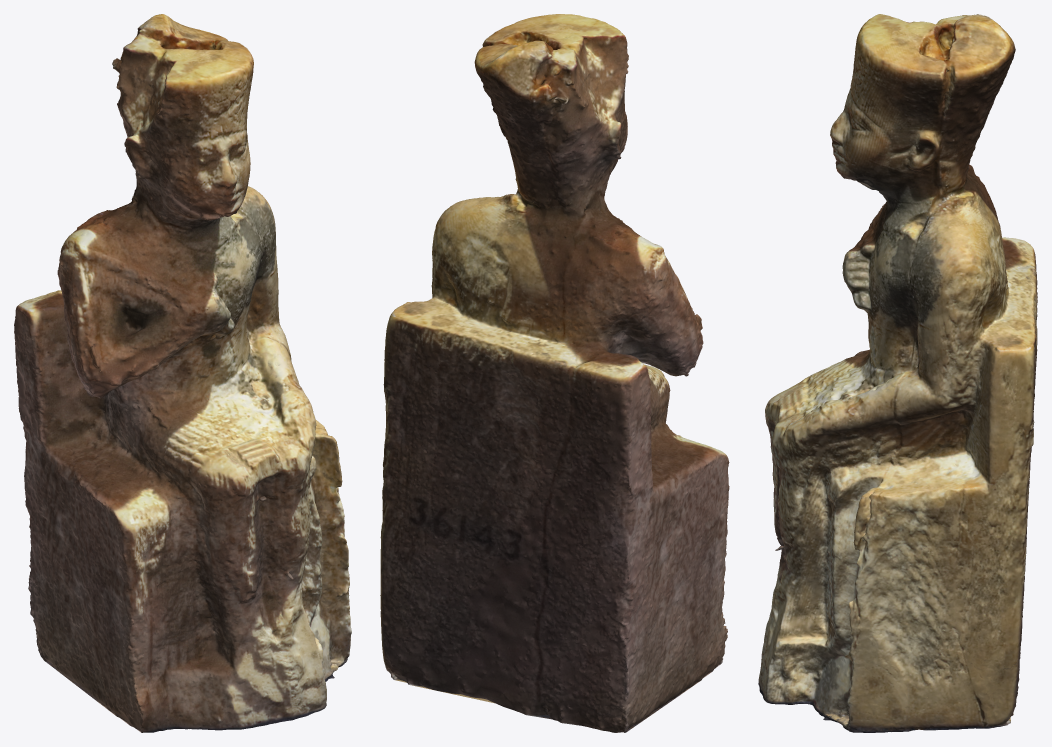
3 views of the same model, side by side, from view 1: azimuth 30°, elevation 25°; view 2: azimuth 150°, elevation 25°; view 3: azimuth 270°, elevation 25° (orthographic). The views are drawn at different scales.
Parts seen in each view (by area): view 1: Object_2; view 2: Object_2; view 3: Object_2.
Boxes of the visible parts, <box> form: Object_2: <box>14,14,351,732</box>; Object_2: <box>380,14,729,732</box>; Object_2: <box>758,14,1037,732</box>.
Size of the model in its own units: 0.0317 by 0.0755 by 0.0293.
1 material, 1 textured.
